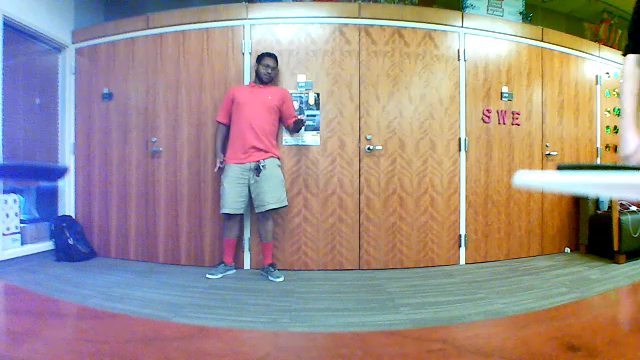land: (288, 112, 310, 135)
